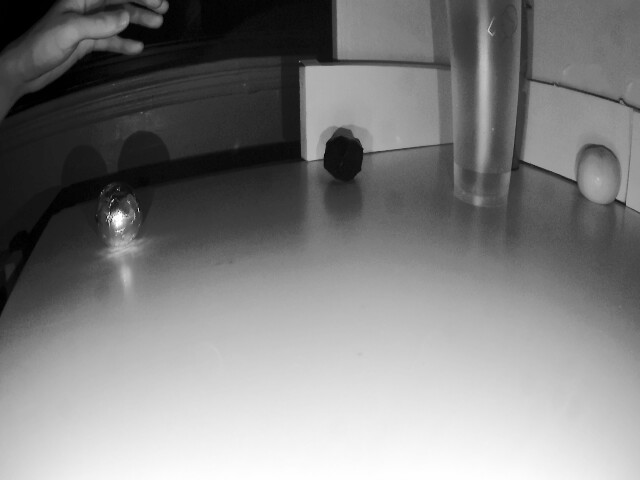black: (318, 134, 372, 181)
silver: (91, 181, 146, 258)
